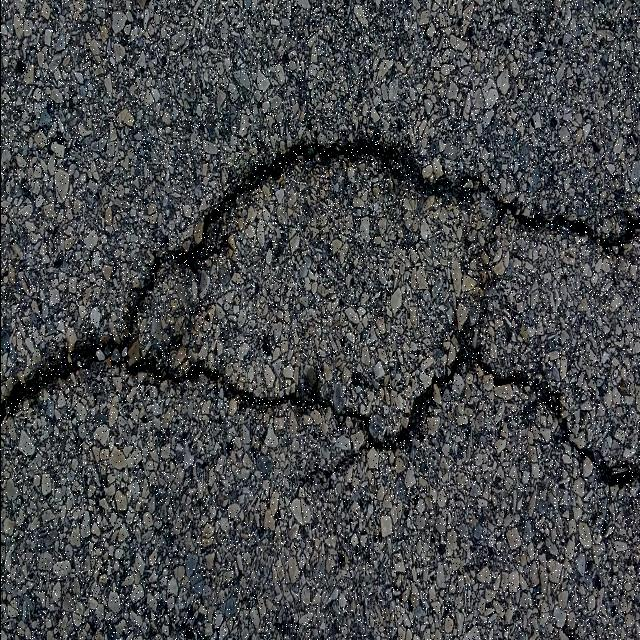Crack: (0, 136, 640, 486)
